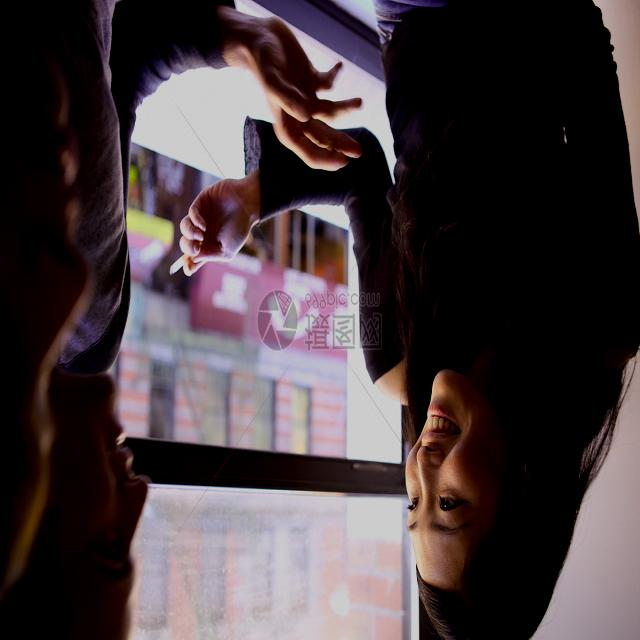smoke: (166, 252, 186, 282)
